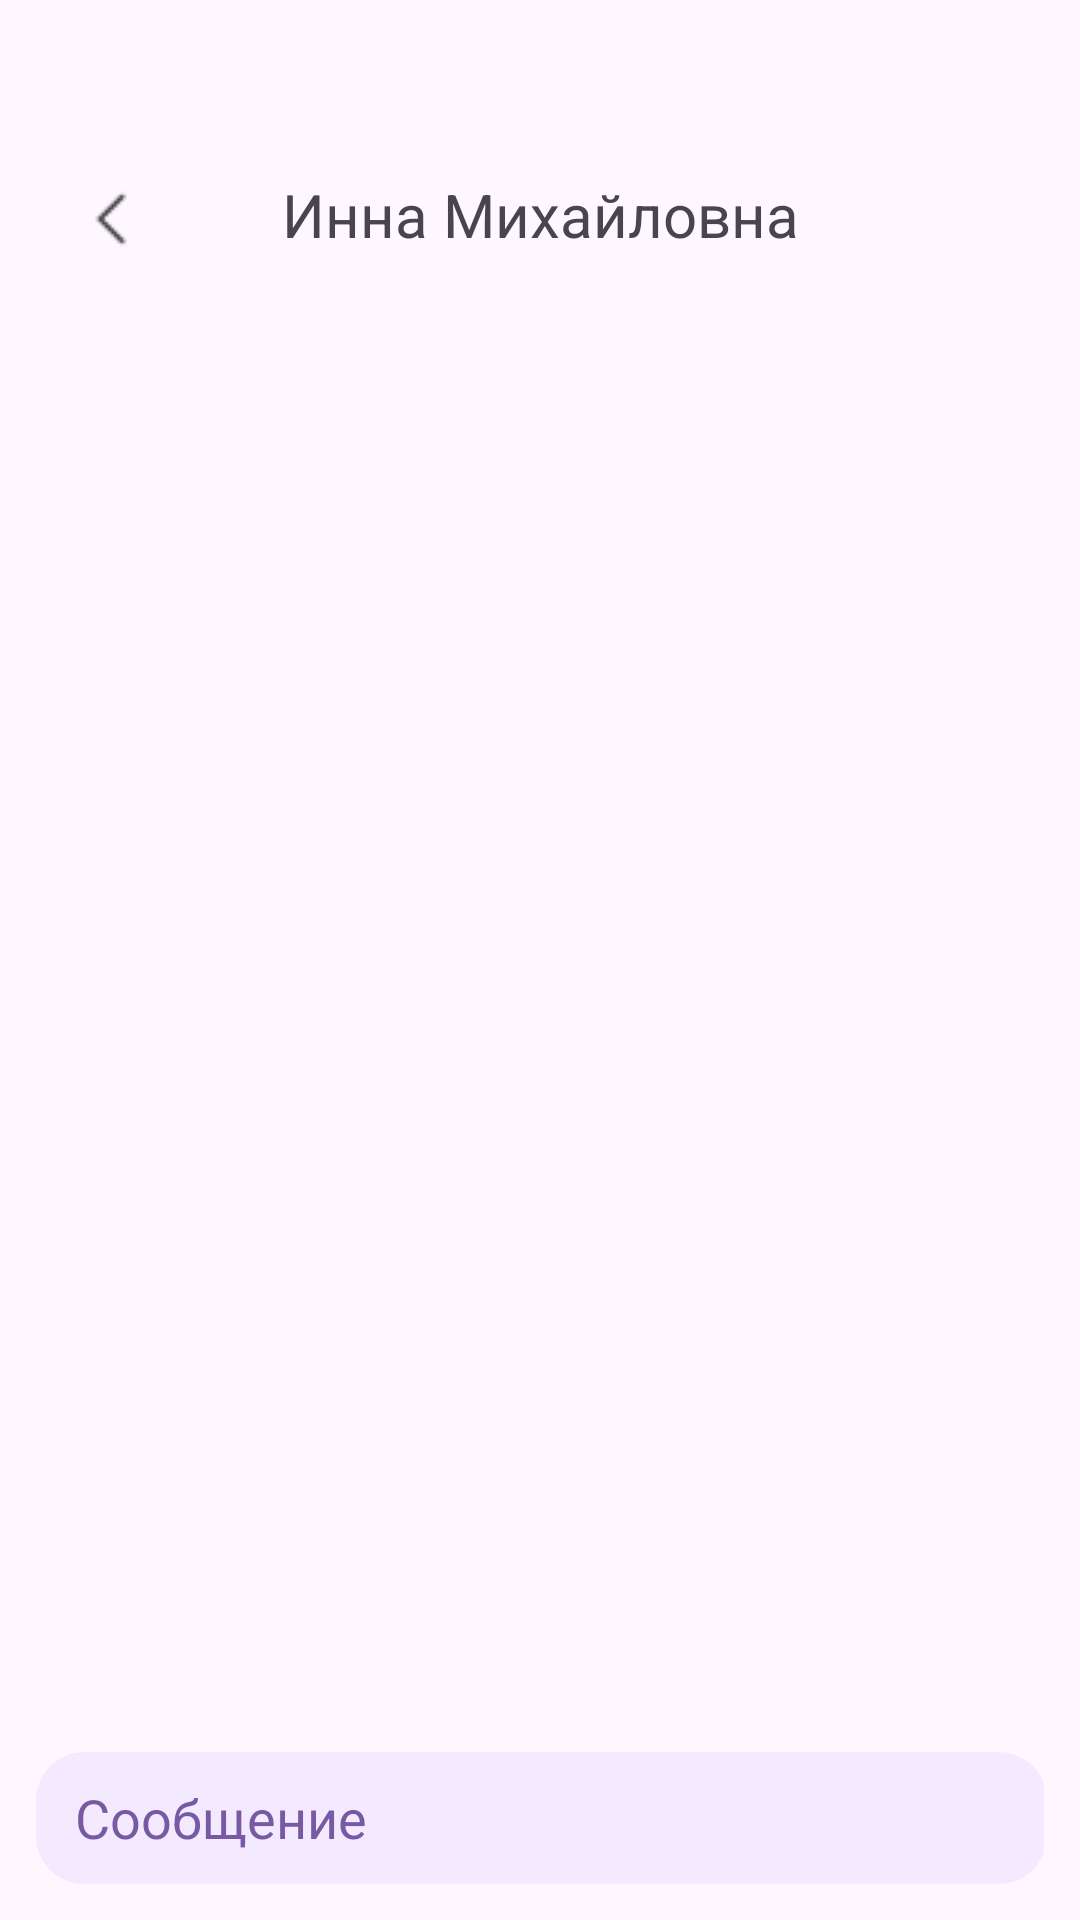

Where icons sit on this 1080px x 1920px app screen, as (x1, y1, x2, y2):
back: (96, 194, 127, 244)
